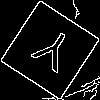Y: (25, 25, 77, 82)
